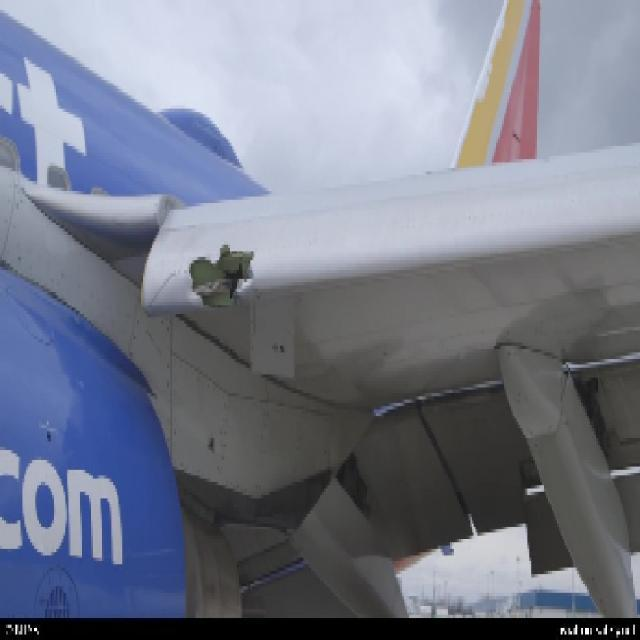crack: (188, 245, 260, 318)
